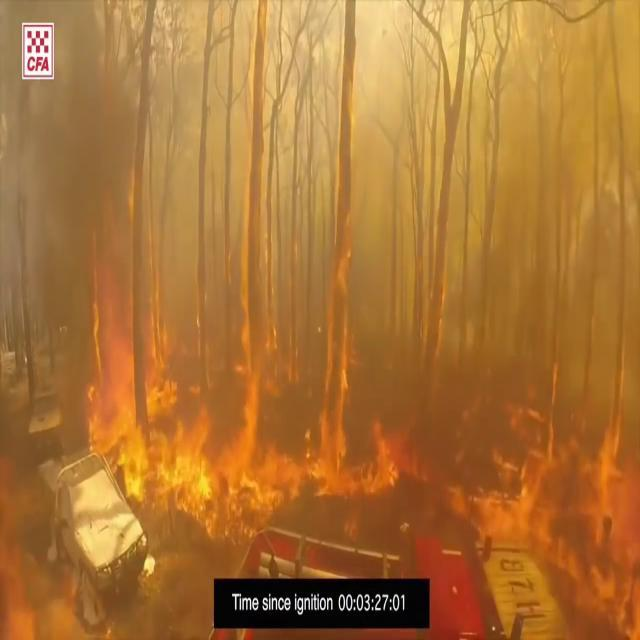Fire: (66, 220, 416, 555), (456, 321, 640, 636)
Smoke: (12, 0, 638, 390)
